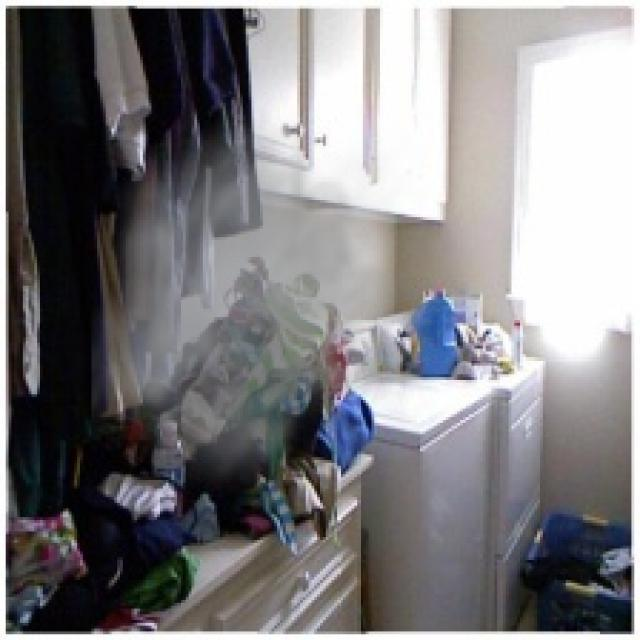Smoke: (92, 97, 434, 503)
